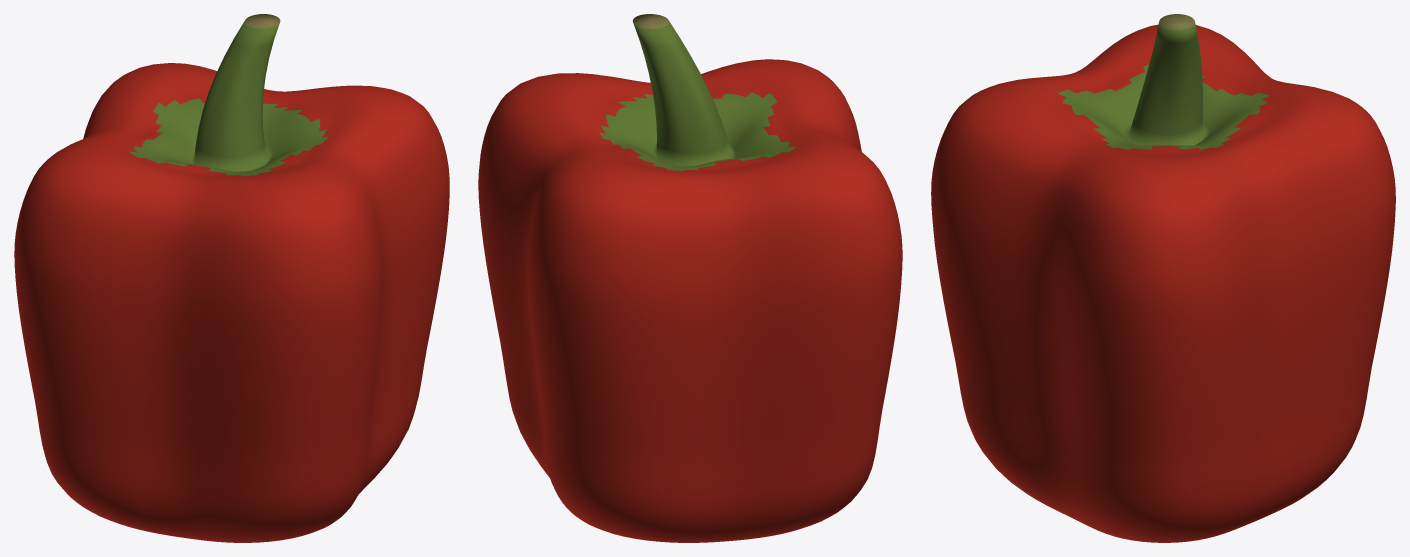
File: A-NEW-20261027-BELL-PEPPER-001_LOD0_R2.glb
3 views of the same model, side by side, from view 1: azimuth 30°, elevation 25°; view 2: azimuth 150°, elevation 25°; view 3: azimuth 270°, elevation 25° (orthographic). The views are drawn at different scales.
Parts seen in each view (by area): view 1: original four lobed pepper body calyx and thick stalk; view 2: original four lobed pepper body calyx and thick stalk; view 3: original four lobed pepper body calyx and thick stalk.
Part boxes in pixels (x1,y1,x2,y2): original four lobed pepper body calyx and thick stalk: [14, 14, 449, 542]; original four lobed pepper body calyx and thick stalk: [478, 14, 902, 542]; original four lobed pepper body calyx and thick stalk: [931, 14, 1395, 542].
Bounding box in the file's own units: 0.0882 × 0.0963 × 0.0829.
